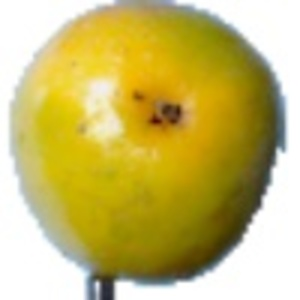maracujá: (10, 1, 289, 300)
